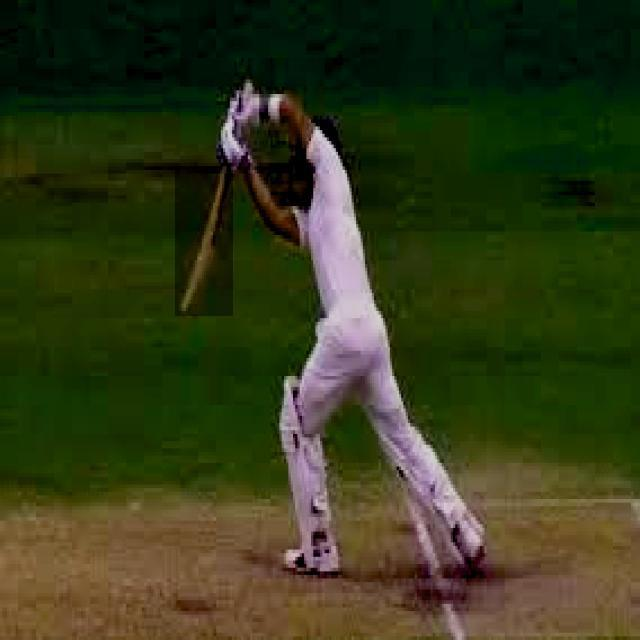bat: (177, 156, 239, 318)
toe: (179, 293, 206, 313)
